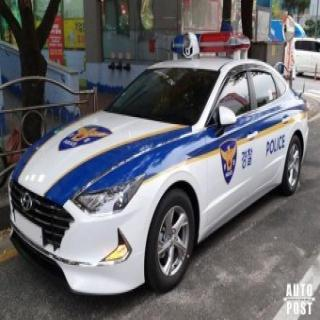Police_car: (3, 24, 310, 304)
